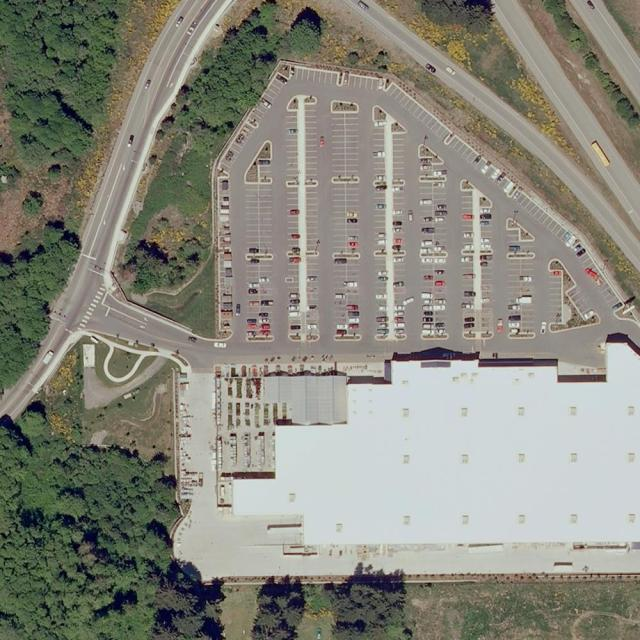building: (232, 337, 640, 546), (265, 374, 346, 425)
greenland: (89, 0, 329, 314)
metalled_road: (205, 58, 640, 369), (86, 289, 222, 388), (78, 355, 172, 410)
